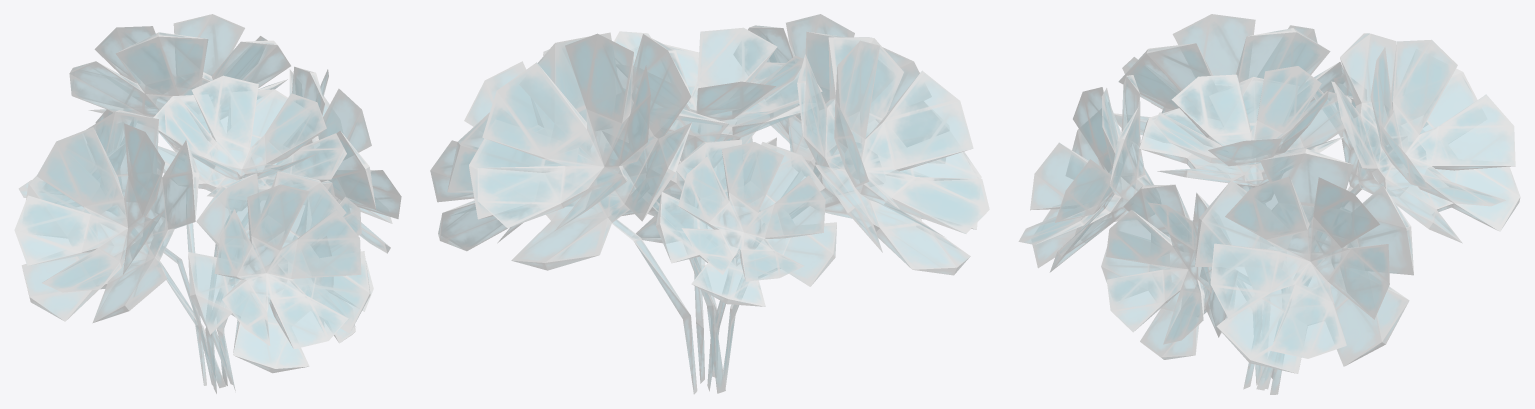
File: test-flower.glb
The picture shows the model from 3 angles, left to right: view 1: azimuth 30°, elevation 25°; view 2: azimuth 150°, elevation 25°; view 3: azimuth 270°, elevation 25°; orthographic projection. The views are drawn at different scales.
Visible parts, largest first — view 1: ramo diezmadas; view 2: ramo diezmadas; view 3: ramo diezmadas.
Part boxes in pixels (x1,y1,x2,y2): ramo diezmadas: [14, 14, 401, 393]; ramo diezmadas: [430, 14, 989, 394]; ramo diezmadas: [1018, 14, 1520, 394].
Bounding box in the file's own units: 0.5037 × 0.4085 × 0.527.
Materials: 1 (1 with a texture image).
